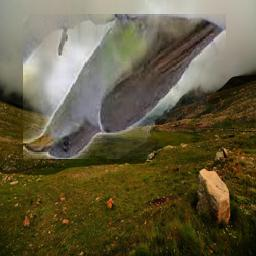Cuckoo: (24, 15, 227, 160)
